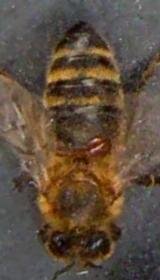varroa_mite: (74, 132, 110, 160)
